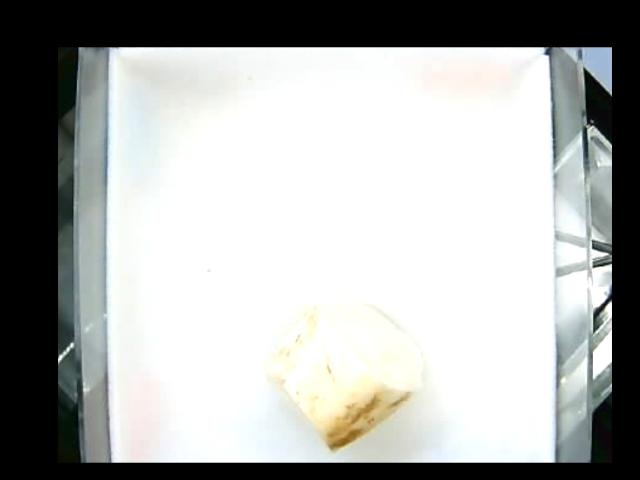Mooli: (260, 287, 422, 451)
